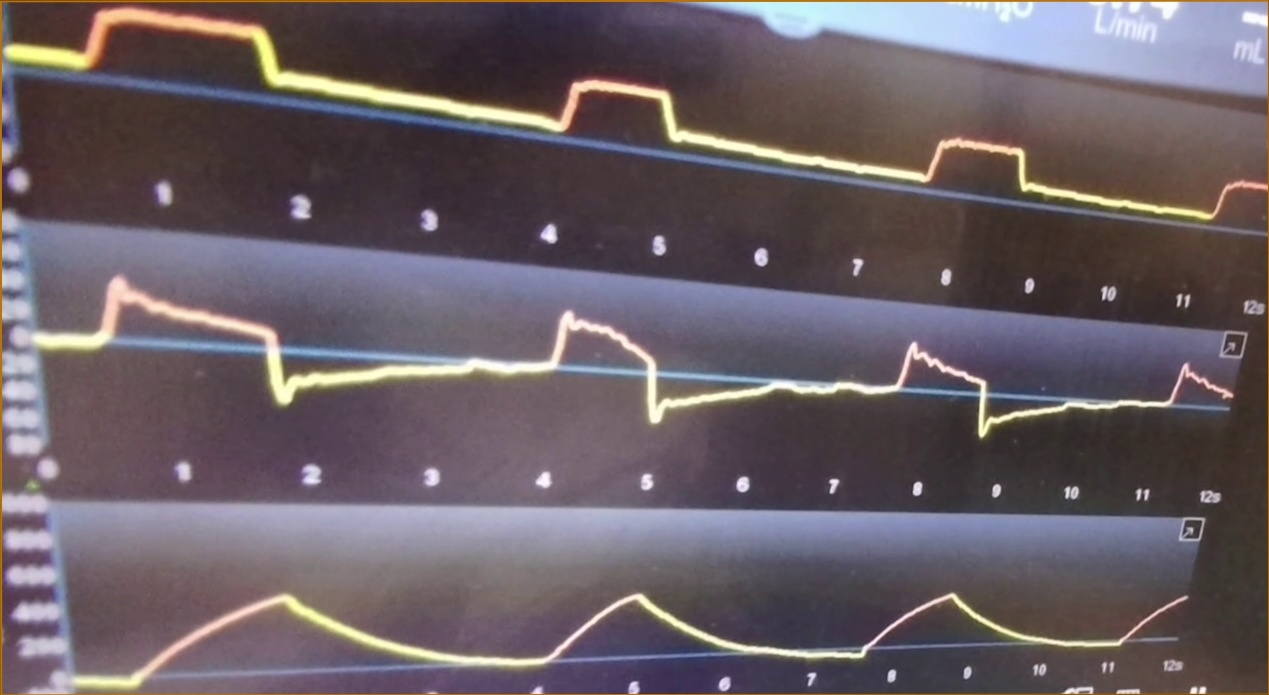Accumulation Flow: (42, 273, 1234, 441)
Volume: (75, 568, 1191, 695)
